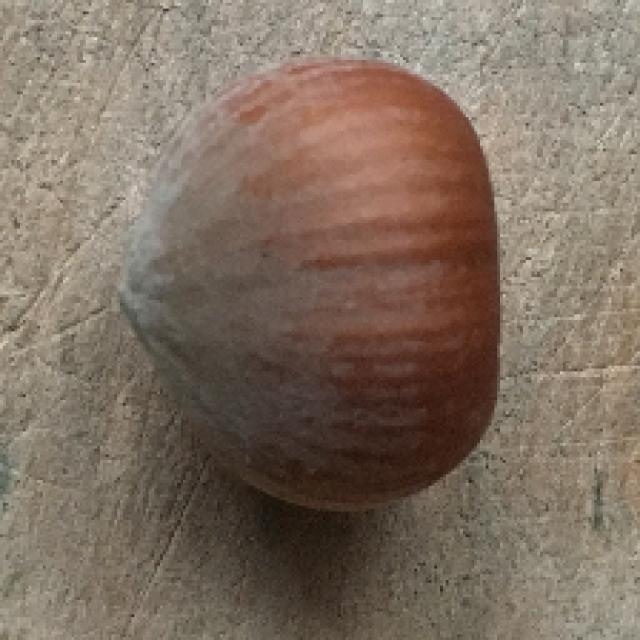qualityHazelnut: (110, 60, 505, 511)
